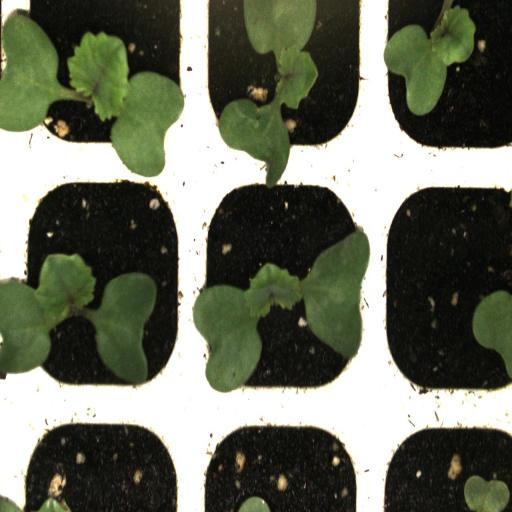Folha: (464, 475, 512, 512)
Germinacao: (189, 172, 376, 414), (2, 168, 190, 401), (194, 0, 376, 176), (2, 0, 188, 166), (376, 1, 512, 167)
